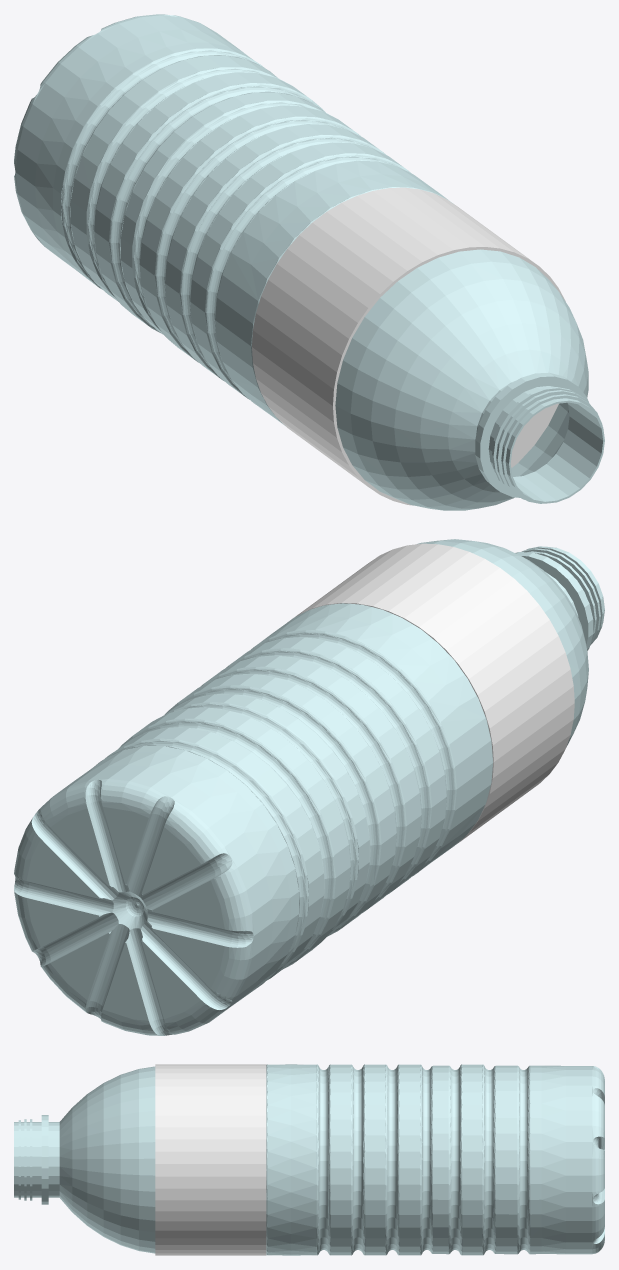
The model's file is water_bottle_empty_model.glb.
The picture shows the model from 3 angles, top to bottom: view 1: azimuth 30°, elevation 25°; view 2: azimuth 150°, elevation 25°; view 3: azimuth 270°, elevation 25°; orthographic projection. The views are drawn at different scales.
Visible parts, largest first — view 1: obj_0, obj_1; view 2: obj_0, obj_1; view 3: obj_0, obj_1.
Boxes of the visible parts, box(x1,y1,x2,y2) form: obj_0: box(14, 14, 604, 510); obj_1: box(252, 187, 565, 505); obj_0: box(14, 539, 604, 1035); obj_1: box(292, 543, 574, 843); obj_0: box(14, 1064, 604, 1255); obj_1: box(155, 1064, 266, 1255).
Bounding box in the file's own units: 5 × 5 × 15.44.
